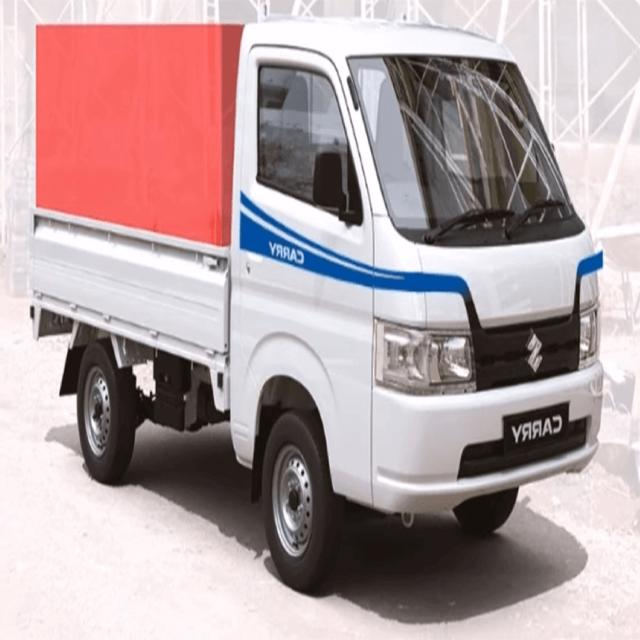truck: (30, 22, 602, 588)
